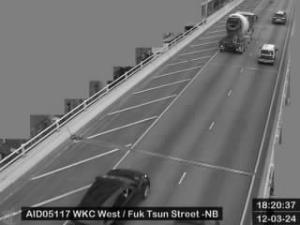truck: (218, 11, 258, 53)
vehicle: (65, 169, 151, 225), (258, 44, 278, 64), (270, 10, 286, 24)
